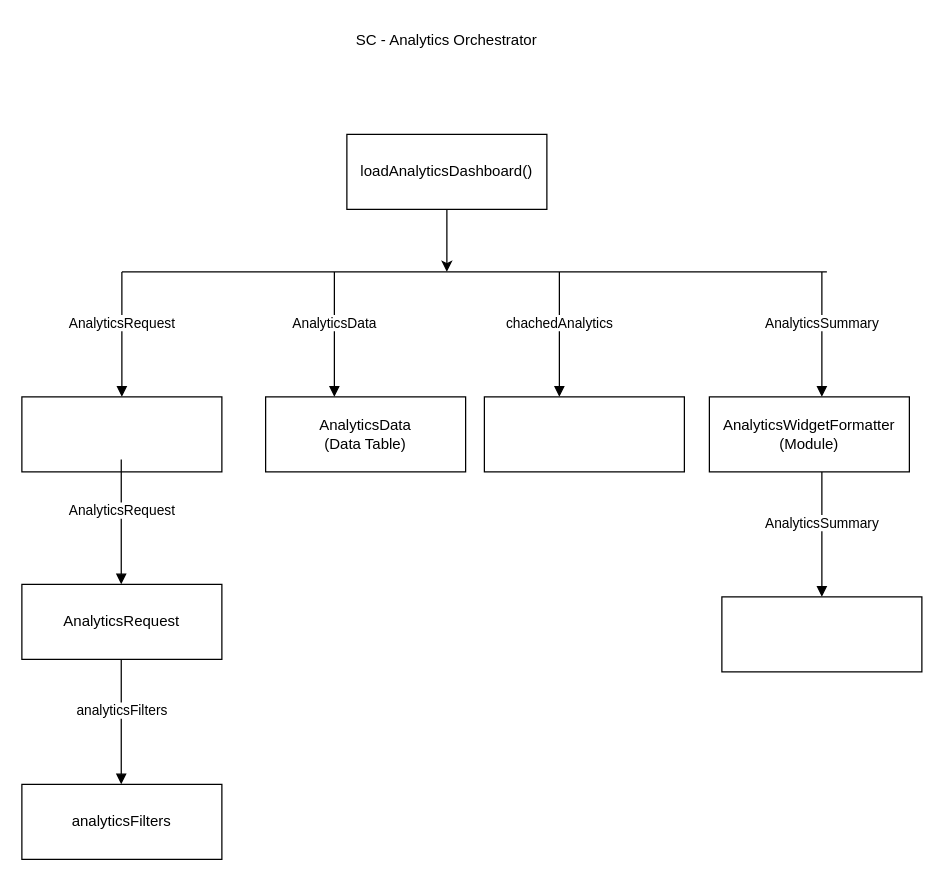
This 944x881 diagram has some shape labels left out. The box of each missing label's shape, as (x1, y1, x2, y2) in pixels:
AnalyticsCache (Data Store): (483, 396, 684, 472)
AnalyticsSummary (Object): (721, 596, 922, 672)
validateAnalyticsRequest(): (21, 396, 222, 472)
